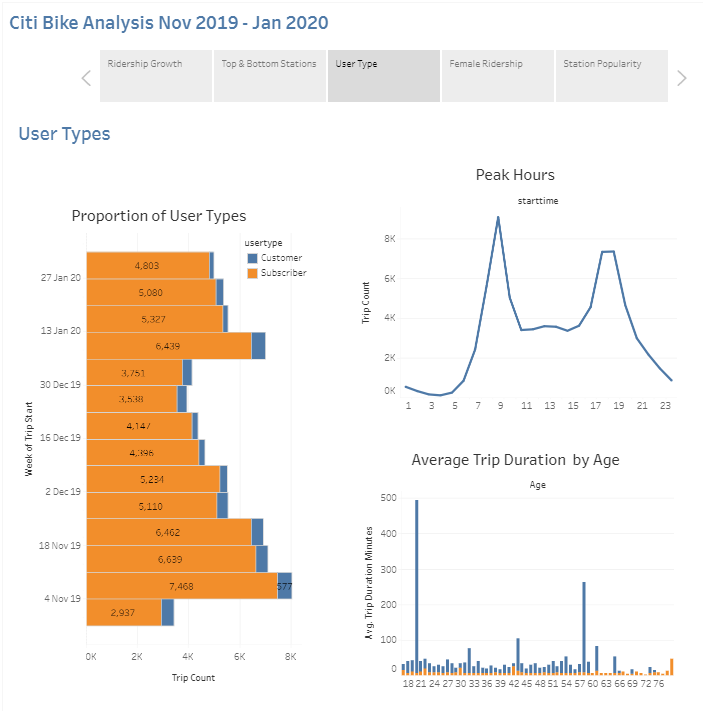

The page's visual inventory and layout, read from the dashboard file:
{"tool":"tableau","page":{"name":"User Types, Peak Hours, & Age","canvas":[1000,1000],"units":"permille","ordinal":4},"visuals":[{"type":"worksheet","box":[0,0,1000,1000]},{"type":"worksheet","param":"vert","box":[5.5,9.8,988.9,980.4]},{"type":"worksheet","box":[5.5,9.8,988.9,70.9]},{"type":"worksheet","box":[5.5,80.7,988.9,909.5]},{"type":"worksheet","title":"Peak Hours","mark":"Automatic","rows":["_57B5E63297B8400FB06C19BAD6663A0C"],"cols":["starttime"],"box":[460.1,80.7,429.6,416.9]},{"type":"worksheet","title":"Proportion of User Types - Count","mark":"Bar","rows":["starttime"],"cols":["_57B5E63297B8400FB06C19BAD6663A0C"],"box":[9.7,147.9,380.3,798.3]},{"type":"worksheet","title":"Proportion of User Types - Count","mark":"Bar","rows":["starttime"],"cols":["_57B5E63297B8400FB06C19BAD6663A0C"],"param":"[federated.0e4tk9l00upwaq14i1hmy0mif4b7].[none:usertype:nk]","box":[313.7,206.6,134.6,121]},{"type":"worksheet","title":"Average Trip Duration (Minutes) by Age ","mark":"Automatic","rows":["Calculation_412923829369352196"],"cols":["Calculation_412923829369049091"],"box":[462.9,547.7,424.7,405.9]}]}

Visuals, with their boxes on the dashboard's canvas, which has no fixed pixel size, in thousandths of its width and height (x1, y1, x2, y2). These are canvas units, not pixel positions in the 703x711 screenshot, which may show the page scaled, cropped or inside an application window:
worksheet: box(0, 0, 1000, 1000)
worksheet: box(6, 10, 994, 990)
worksheet: box(6, 10, 994, 81)
worksheet: box(6, 81, 994, 990)
"Peak Hours" worksheet: box(460, 81, 890, 498)
"Proportion of User Types - Count" worksheet (Bar marks): box(10, 148, 390, 946)
"Proportion of User Types - Count" worksheet (Bar marks): box(314, 207, 448, 328)
"Average Trip Duration (Minutes) by Age " worksheet: box(463, 548, 888, 954)
